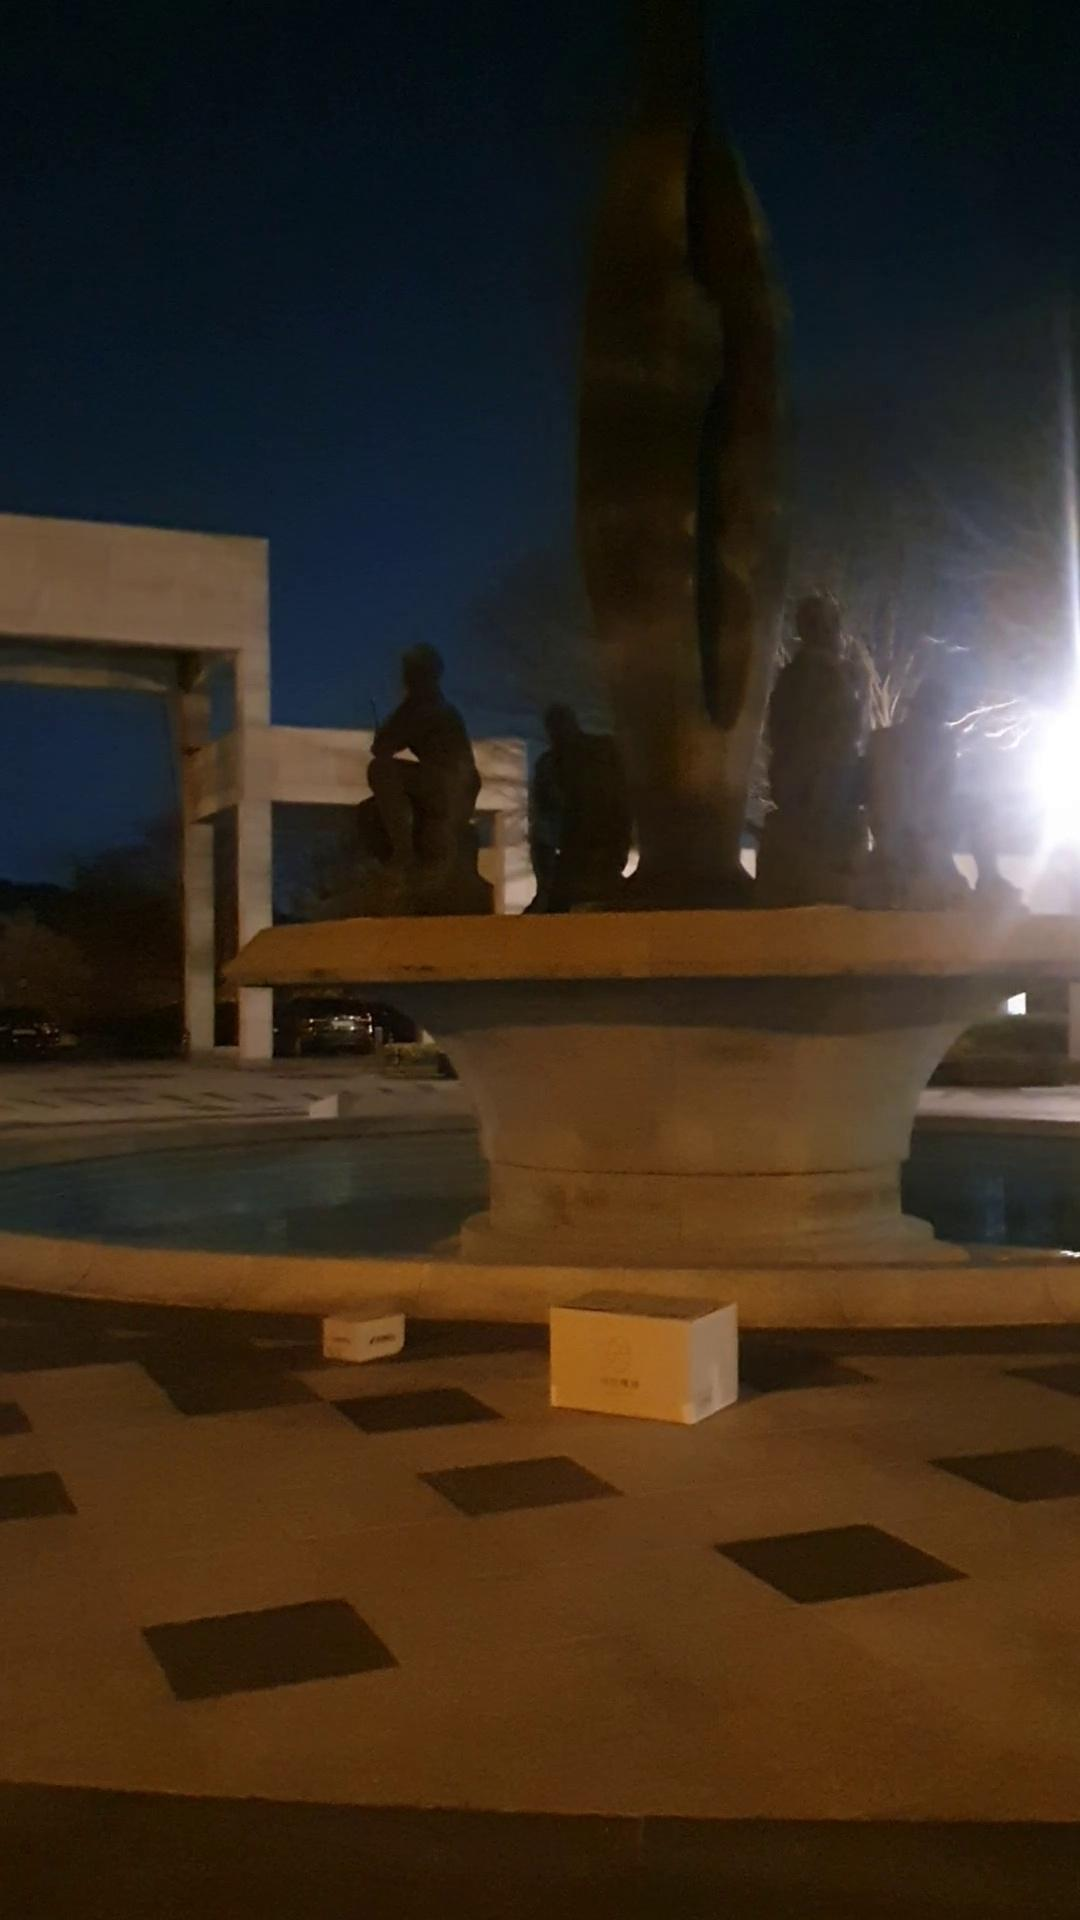Box: (527, 1284, 744, 1427), (311, 1288, 423, 1378)
